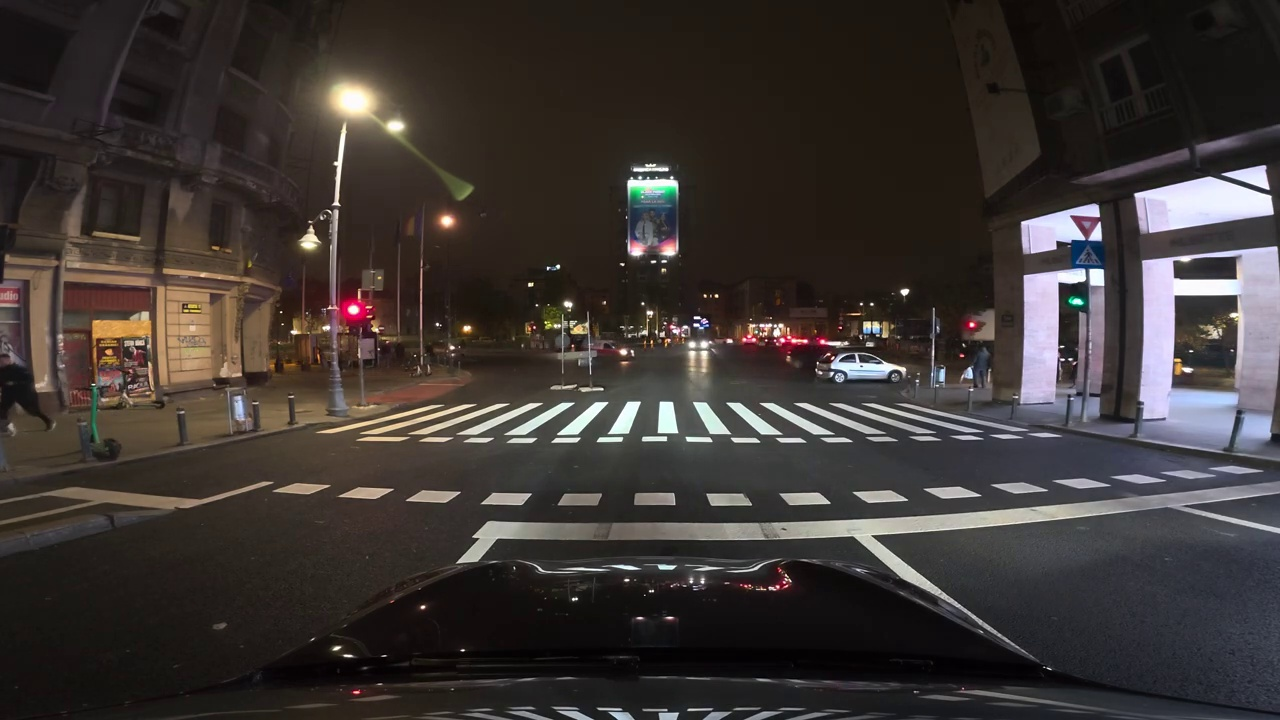acesa: (333, 86, 371, 116), (298, 231, 323, 255), (435, 212, 458, 232), (385, 120, 407, 138), (456, 183, 475, 201), (896, 284, 914, 302)
